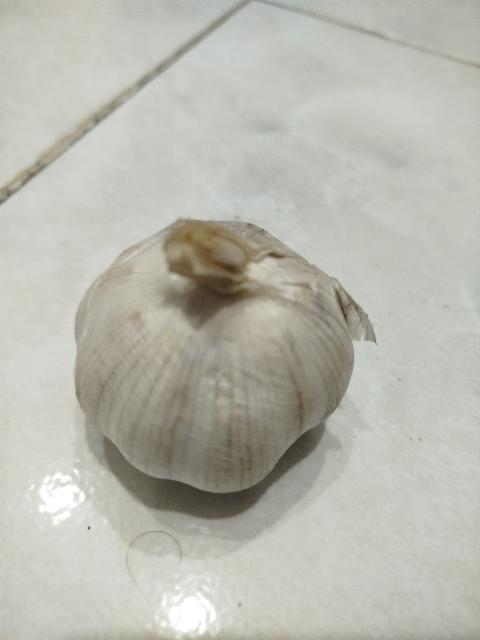garlic: (73, 217, 377, 493)
